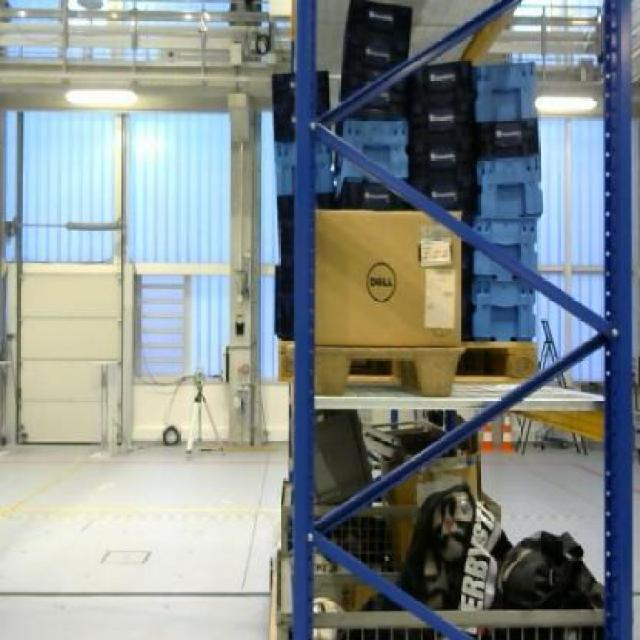box: (312, 205, 461, 342)
